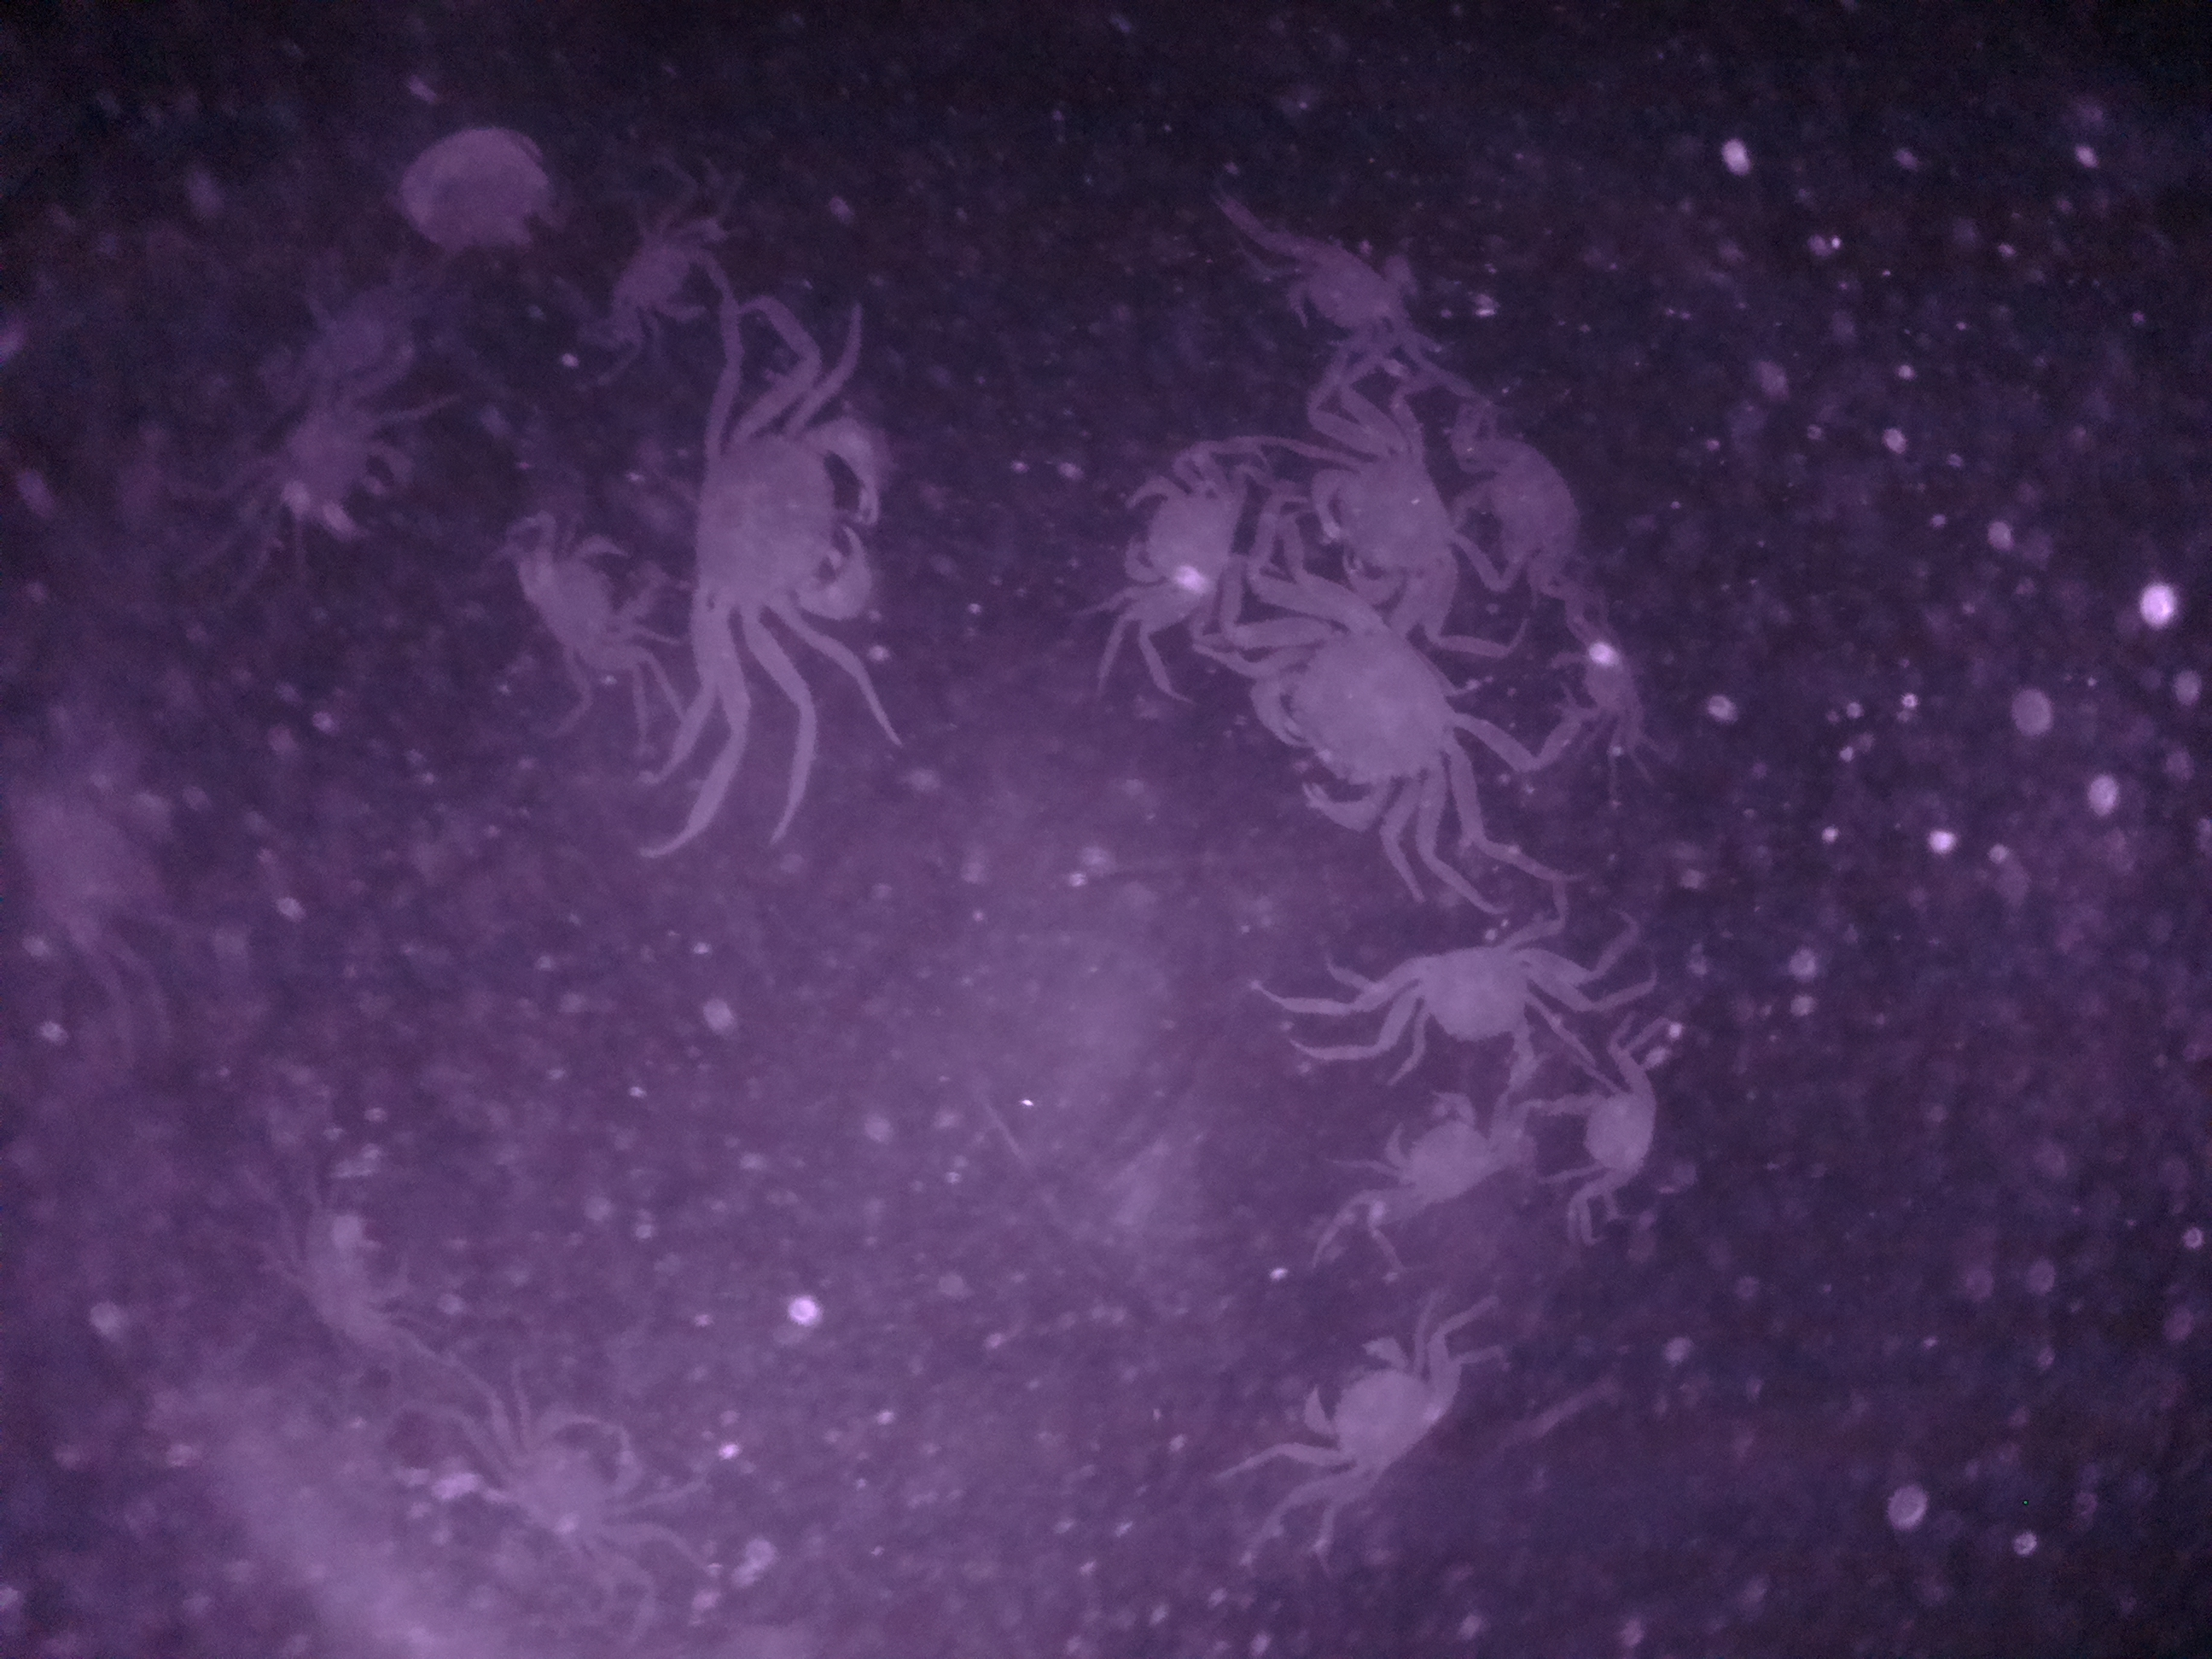Crab: (678, 378, 900, 655), (1247, 580, 1493, 828), (1287, 1323, 1463, 1499), (1372, 932, 1557, 1096), (1106, 448, 1252, 624), (516, 530, 667, 674), (1282, 225, 1409, 361), (1555, 1065, 1679, 1199)
